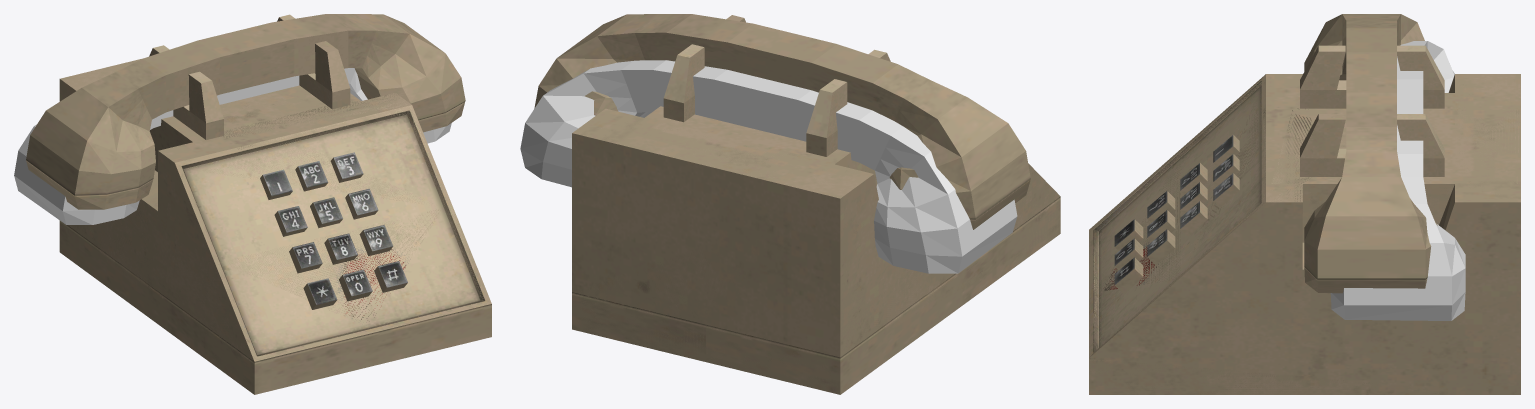
The model's file is landline.fbx.
The picture shows the model from 3 angles, left to right: view 1: azimuth 30°, elevation 25°; view 2: azimuth 150°, elevation 25°; view 3: azimuth 270°, elevation 25°; orthographic projection. The views are drawn at different scales.
Parts seen in each view (by area): view 1: Material2, Material3; view 2: Material2, Material3; view 3: Material2, Material3.
Part boxes in pixels (bbox=[...]): Material2: bbox=[26, 14, 491, 394]; Material3: bbox=[14, 68, 451, 224]; Material2: bbox=[534, 14, 1060, 394]; Material3: bbox=[520, 60, 1017, 273]; Material2: bbox=[1089, 14, 1520, 394]; Material3: bbox=[1330, 41, 1465, 320].
Bounding box in the file's own units: 1.69 × 0.9643 × 1.46.
Materials: 2 (1 with a texture image).
